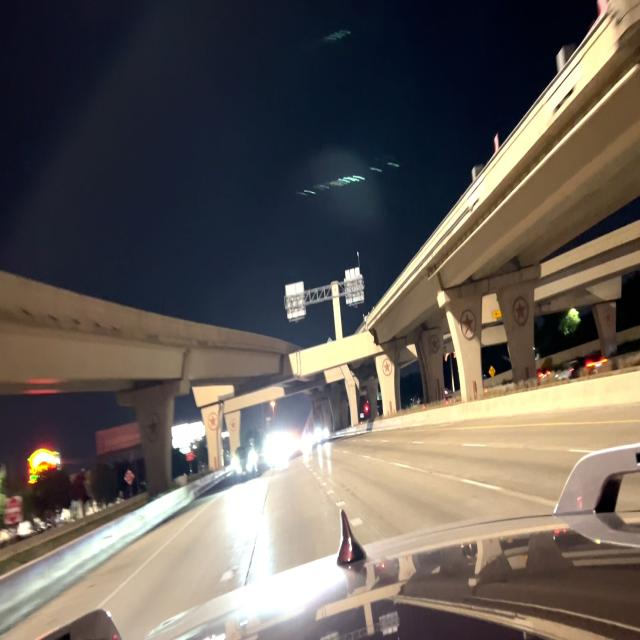back-of-sign: (285, 282, 305, 323), (344, 266, 364, 306)
